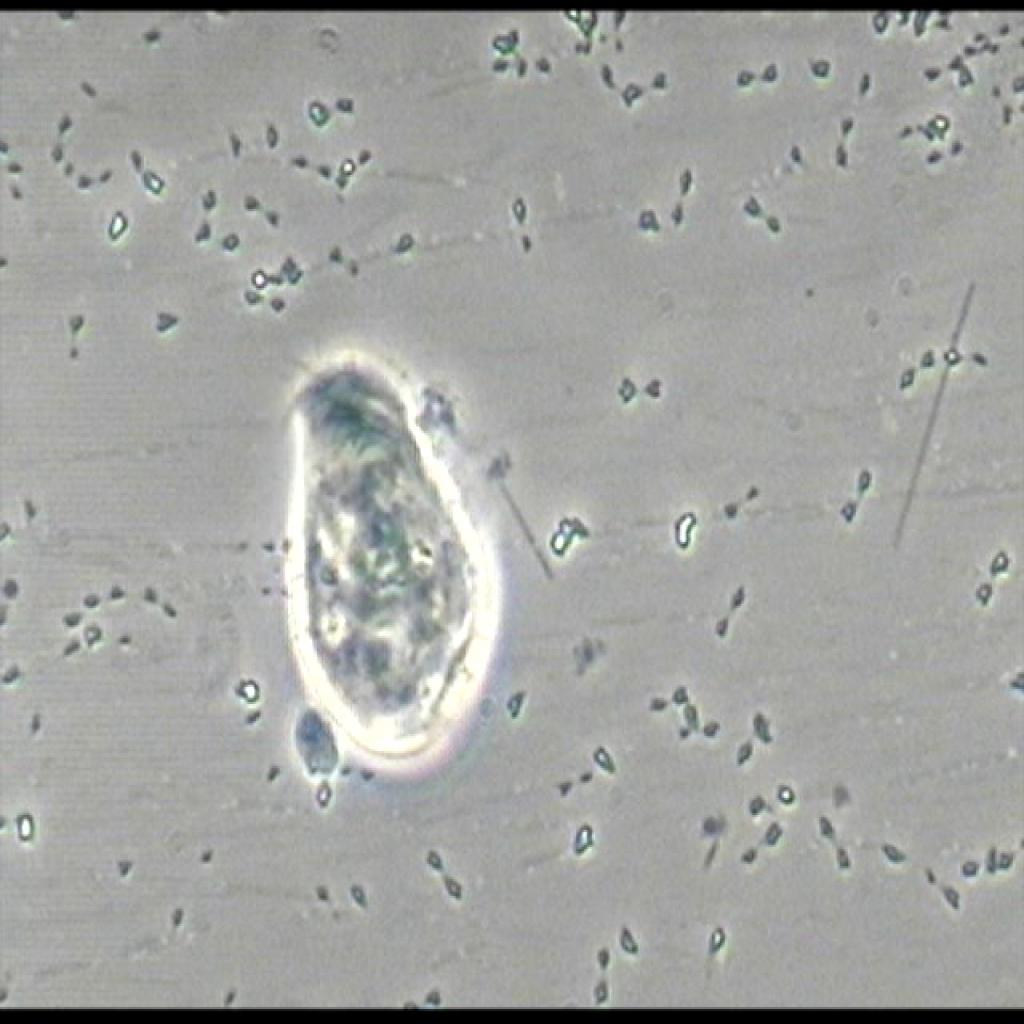Chilodonella: (268, 324, 510, 764)
